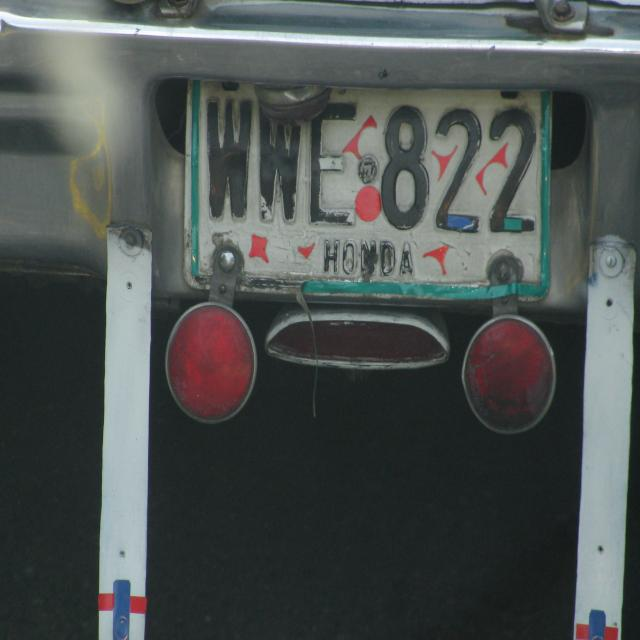placa: (179, 64, 556, 310)
